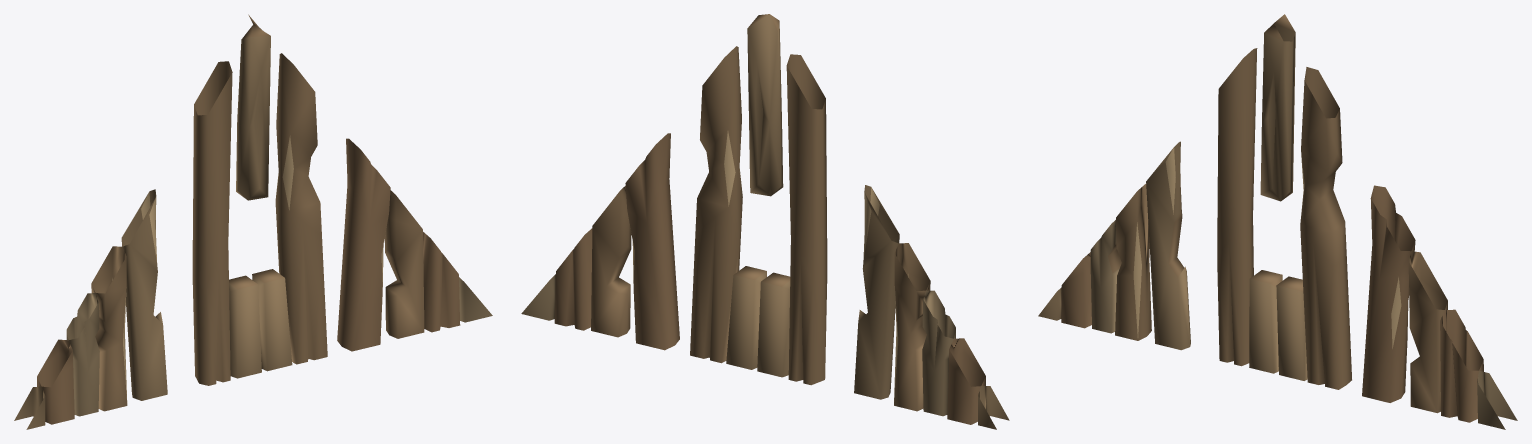
File: rpgpp_av_roof_end_01_6x5_wall_window_02c.fbx
3 renders of one model, left to right at view 1: azimuth 30°, elevation 25°; view 2: azimuth 150°, elevation 25°; view 3: azimuth 330°, elevation 25°, orthographic.
Visible parts, largest first — view 1: rpgpp_av_roof_end_01_6x5_wall_window_02c; view 2: rpgpp_av_roof_end_01_6x5_wall_window_02c; view 3: rpgpp_av_roof_end_01_6x5_wall_window_02c.
Boxes of the visible parts, bbox=[...] form: rpgpp_av_roof_end_01_6x5_wall_window_02c: bbox=[14, 14, 492, 429]; rpgpp_av_roof_end_01_6x5_wall_window_02c: bbox=[521, 14, 1009, 429]; rpgpp_av_roof_end_01_6x5_wall_window_02c: bbox=[1038, 14, 1517, 429].
Bounding box in the file's own units: 678 × 485 × 38.84.
